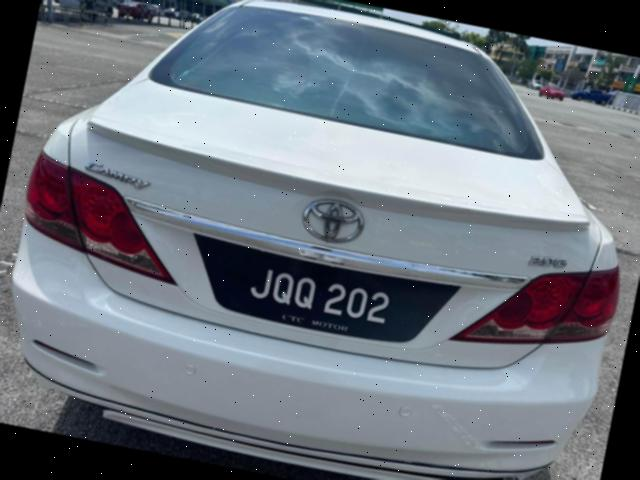License_Plate: (231, 248, 406, 333)
car: (1, 1, 640, 480)
